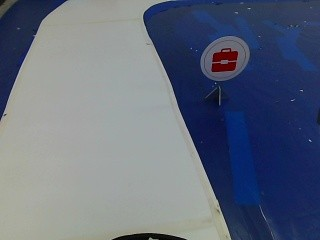company: (199, 36, 244, 81)
